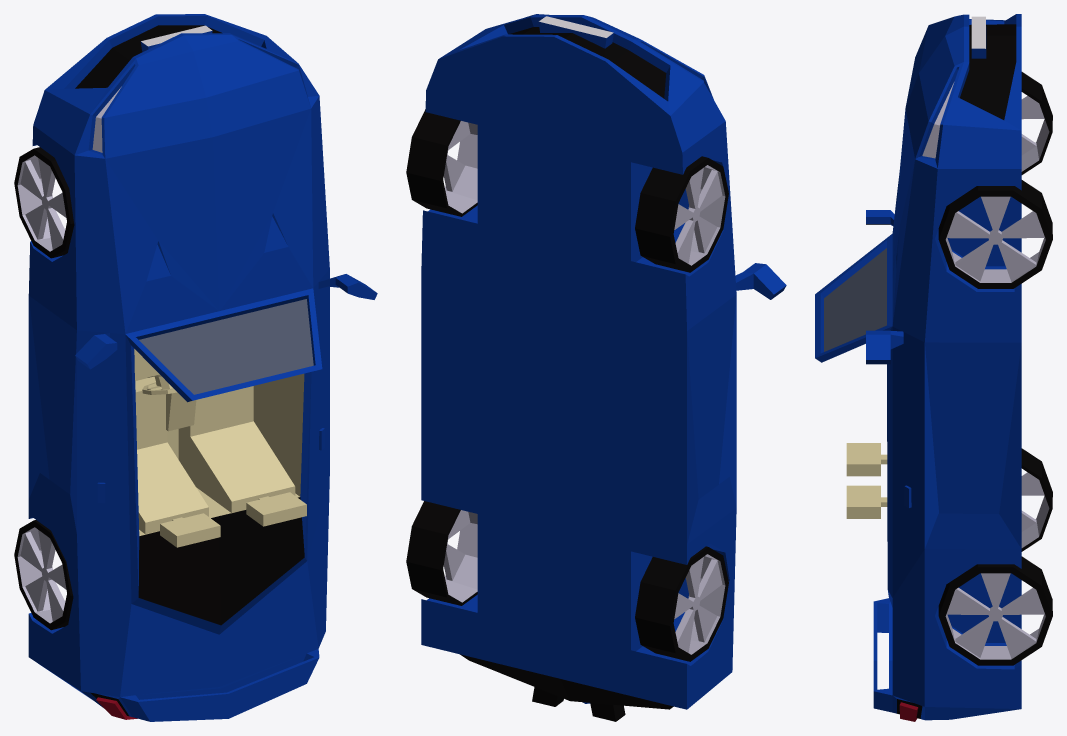
Rendered from Roadster.glb.
3 views of the same model, side by side, from view 1: azimuth 30°, elevation 25°; view 2: azimuth 150°, elevation 25°; view 3: azimuth 270°, elevation 25° (orthographic). The views are drawn at different scales.
Parts seen in each view (by area): view 1: Mesh_0; view 2: Mesh_0; view 3: Mesh_0.
Part boxes in pixels (x1,y1,x2,y2): Mesh_0: (14, 14, 377, 721); Mesh_0: (406, 14, 786, 721); Mesh_0: (815, 14, 1052, 721).
Bounding box in the file's own units: 2.63 × 5.73 × 1.84.
